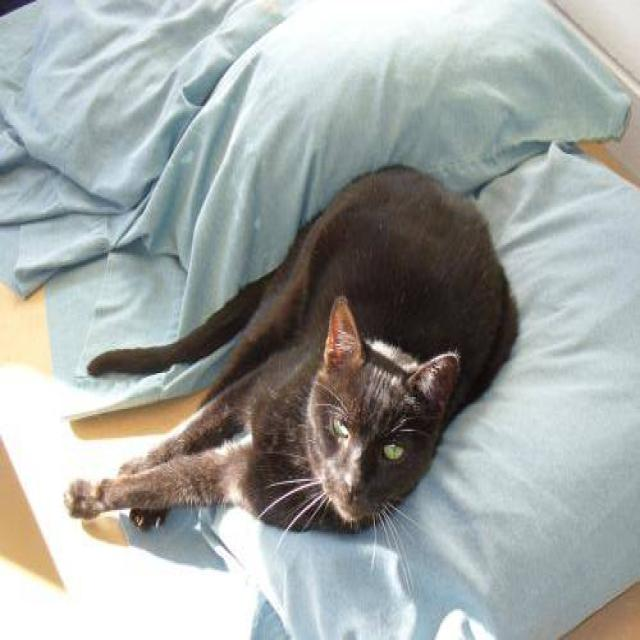cat: (62, 161, 520, 577)
